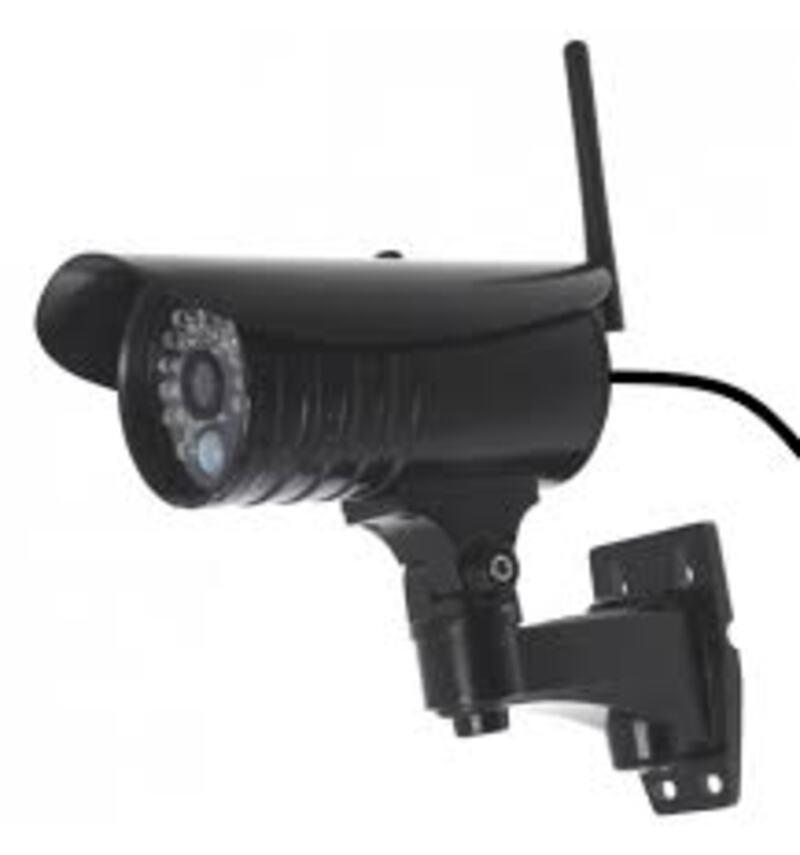bullet: (32, 215, 644, 507)
